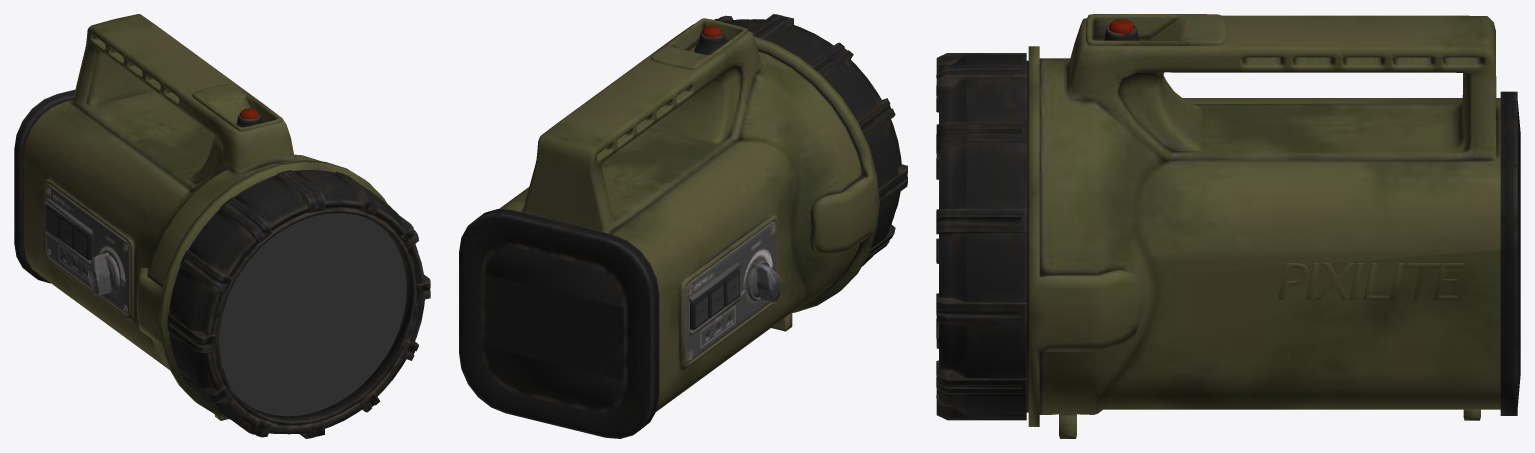
File: ph_portable_searchlight.glb
3 views of the same model, side by side, from view 1: azimuth 30°, elevation 25°; view 2: azimuth 150°, elevation 25°; view 3: azimuth 270°, elevation 25° (orthographic). The views are drawn at different scales.
Parts seen in each view (by area): view 1: portable_searchlight; view 2: portable_searchlight; view 3: portable_searchlight.
Part boxes in pixels (box(x1,y1,x2,y2)): portable_searchlight: box(14, 14, 430, 438); portable_searchlight: box(459, 14, 907, 438); portable_searchlight: box(936, 14, 1520, 438).
Bounding box in the file's own units: 0.1653 × 0.1853 × 0.2534.
2 materials, 2 textured.
